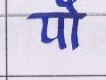au_matra: (59, 0, 85, 48)
